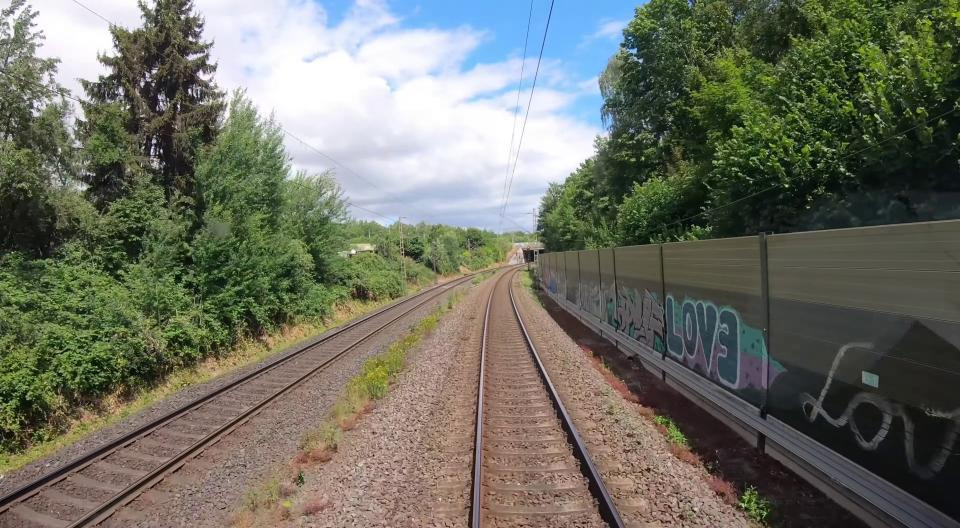Plant: (299, 293, 463, 464), (582, 347, 707, 467), (226, 462, 328, 528), (705, 468, 770, 526), (579, 345, 638, 403)
